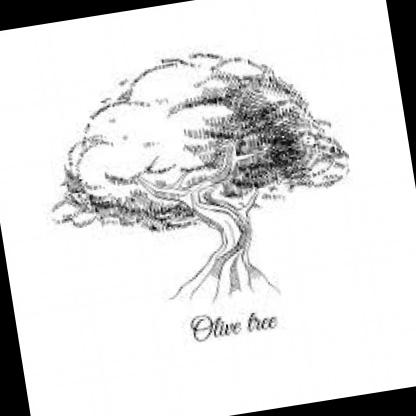branch_sharp: (23, 25, 358, 245), (131, 138, 268, 226)
trunk_bark: (198, 217, 262, 268)
